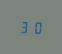three: (19, 19, 29, 33)
zero: (30, 19, 40, 34)
